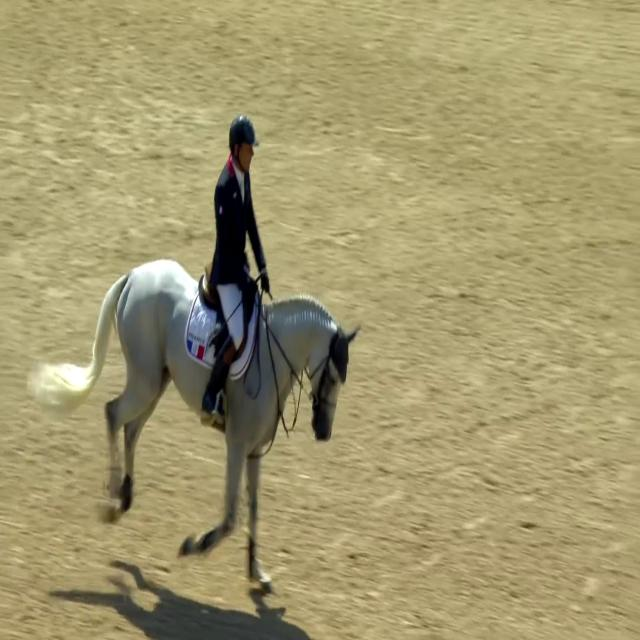Horse Rider: (204, 119, 272, 482)
Horse Running: (45, 223, 355, 634)
